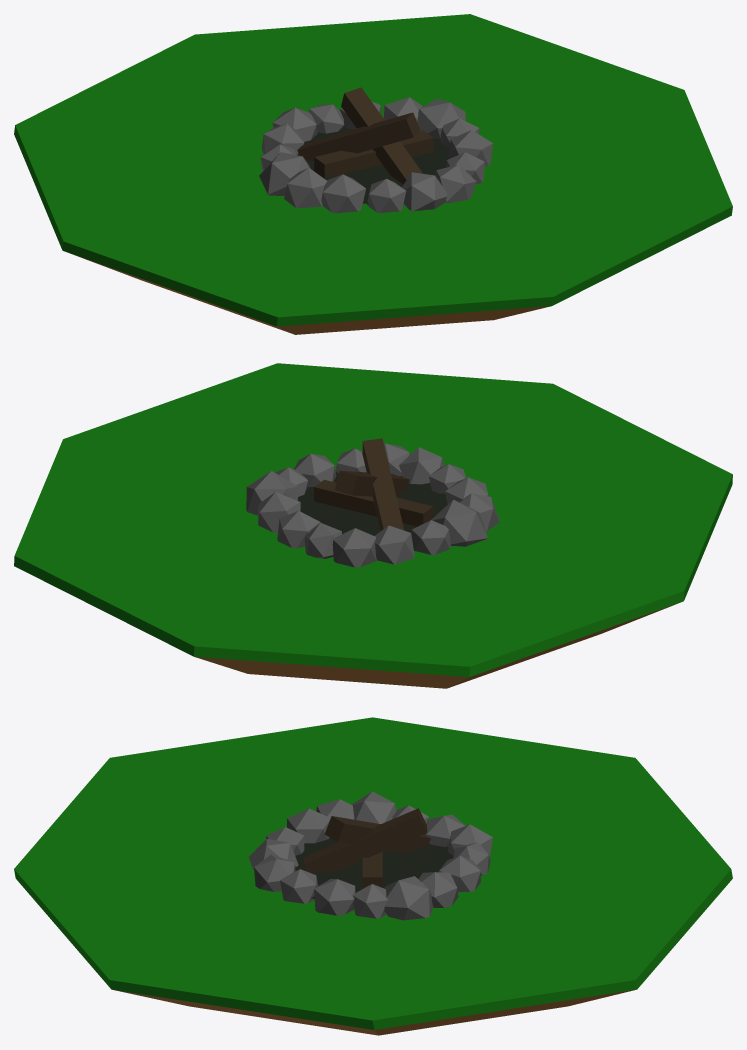
The model's file is Escenario_1.fbx.
The picture shows the model from 3 angles, top to bottom: view 1: azimuth 30°, elevation 25°; view 2: azimuth 150°, elevation 25°; view 3: azimuth 270°, elevation 25°; orthographic projection.
Visible parts, largest first — view 1: Plane, Icosphere.001, Cube, Circle; view 2: Plane, Icosphere.001, Cube, Circle; view 3: Plane, Icosphere.001, Cube, Circle.
Part boxes in pixels (box(x1,y1,x2,y2)): Plane: box(14, 14, 732, 334); Icosphere.001: box(259, 97, 492, 213); Cube: box(297, 87, 433, 184); Circle: box(297, 126, 449, 203); Plane: box(14, 363, 732, 688); Icosphere.001: box(246, 443, 499, 567); Cube: box(314, 438, 433, 530); Circle: box(297, 472, 447, 549); Plane: box(14, 717, 732, 1035); Icosphere.001: box(248, 791, 492, 920); Cube: box(303, 808, 430, 888); Circle: box(295, 833, 453, 898).
Size of the model in its own units: 326 by 59.76 by 326.
